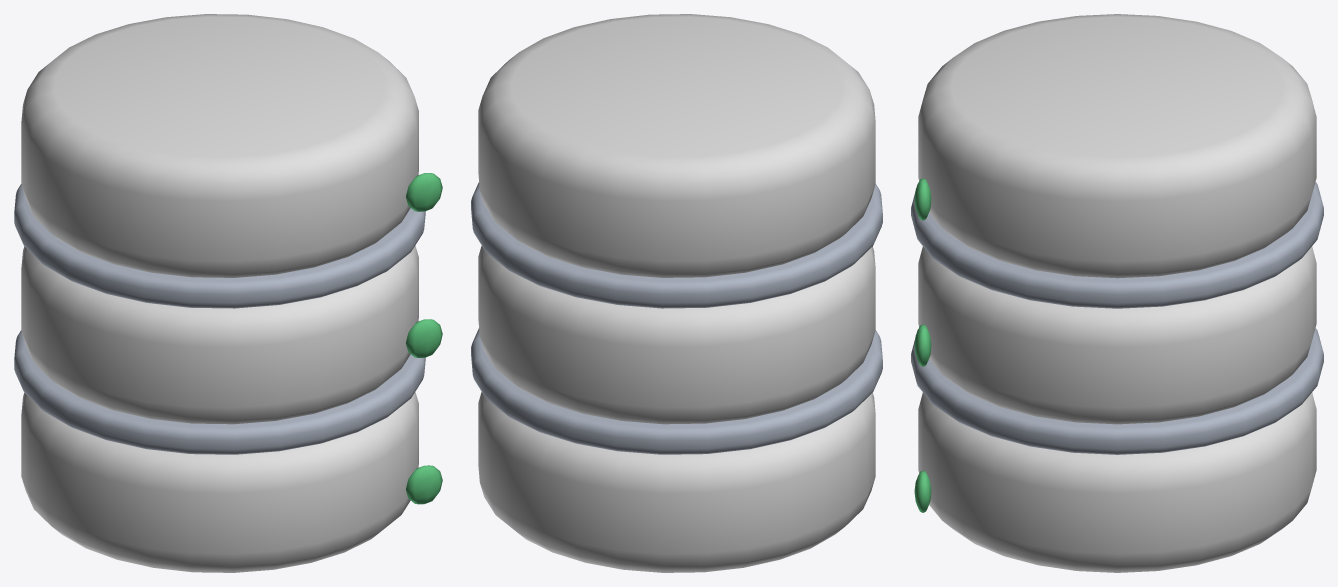
File: database.glb
The picture shows the model from 3 angles, left to right: view 1: azimuth 30°, elevation 25°; view 2: azimuth 150°, elevation 25°; view 3: azimuth 270°, elevation 25°; orthographic projection.
Visible parts, largest first — view 1: database; view 2: database; view 3: database.
Boxes of the visible parts, box(x1,y1,x2,y2) form: database: box(14, 14, 442, 572); database: box(471, 14, 882, 572); database: box(911, 14, 1323, 572).
Size of the model in its own units: 0.9062 by 1 by 0.9062.
